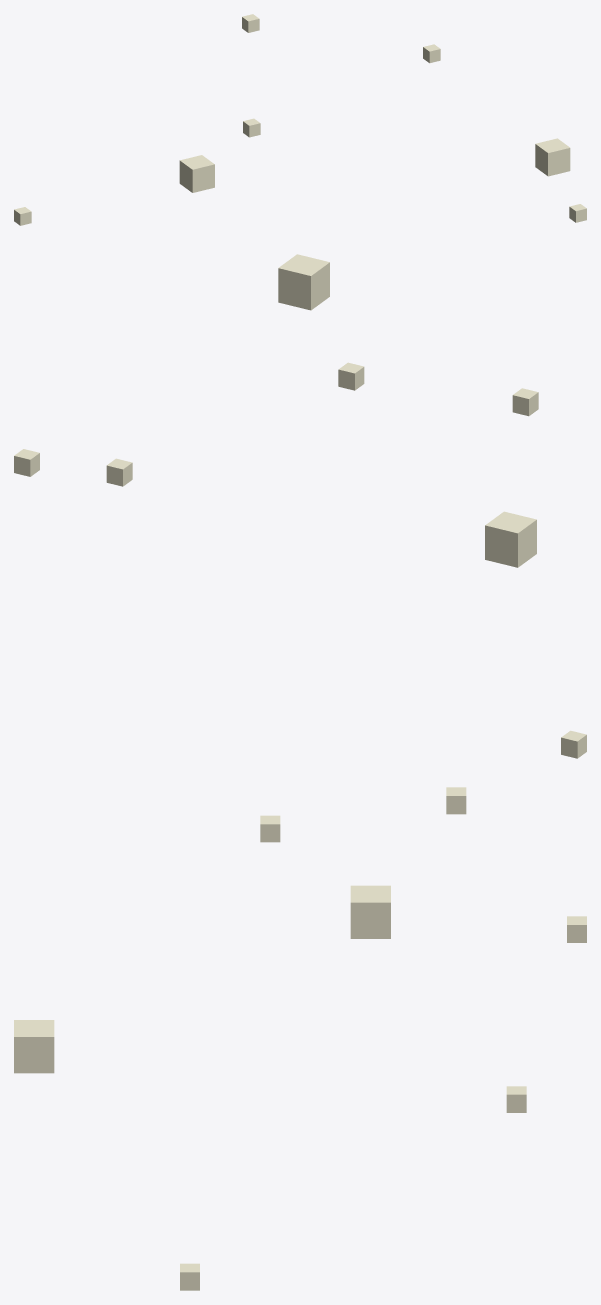
File: star_square_arrange_white_01.glb
The picture shows the model from 3 angles, top to bottom: view 1: azimuth 30°, elevation 25°; view 2: azimuth 150°, elevation 25°; view 3: azimuth 270°, elevation 25°; orthographic projection. The views are drawn at different scales.
Visible parts, largest first — view 1: block (×7); view 2: block (×2); view 3: block (×2).
Part boxes in pixels (<box>): block (×7): <box>14,14,586,225</box>; block (×2): <box>278,254,536,567</box>; block (×2): <box>14,885,390,1073</box>.
Bounding box in the file's own units: 3.98 × 1.7 × 2.85.
